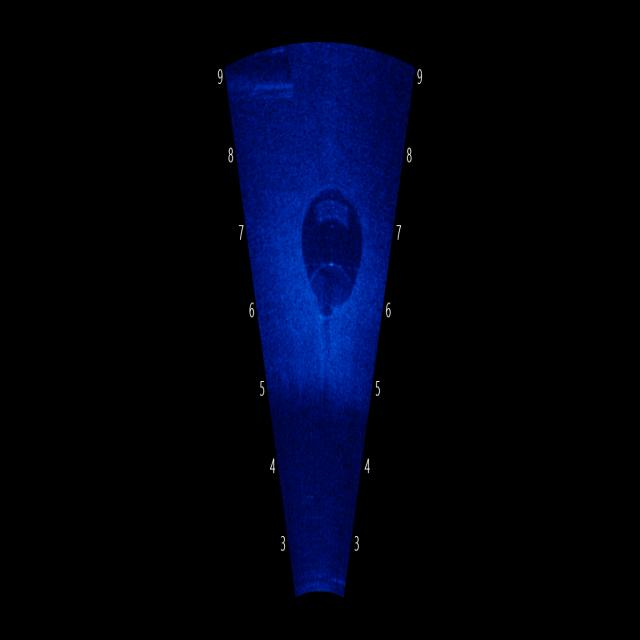circle: (282, 152, 370, 321)
